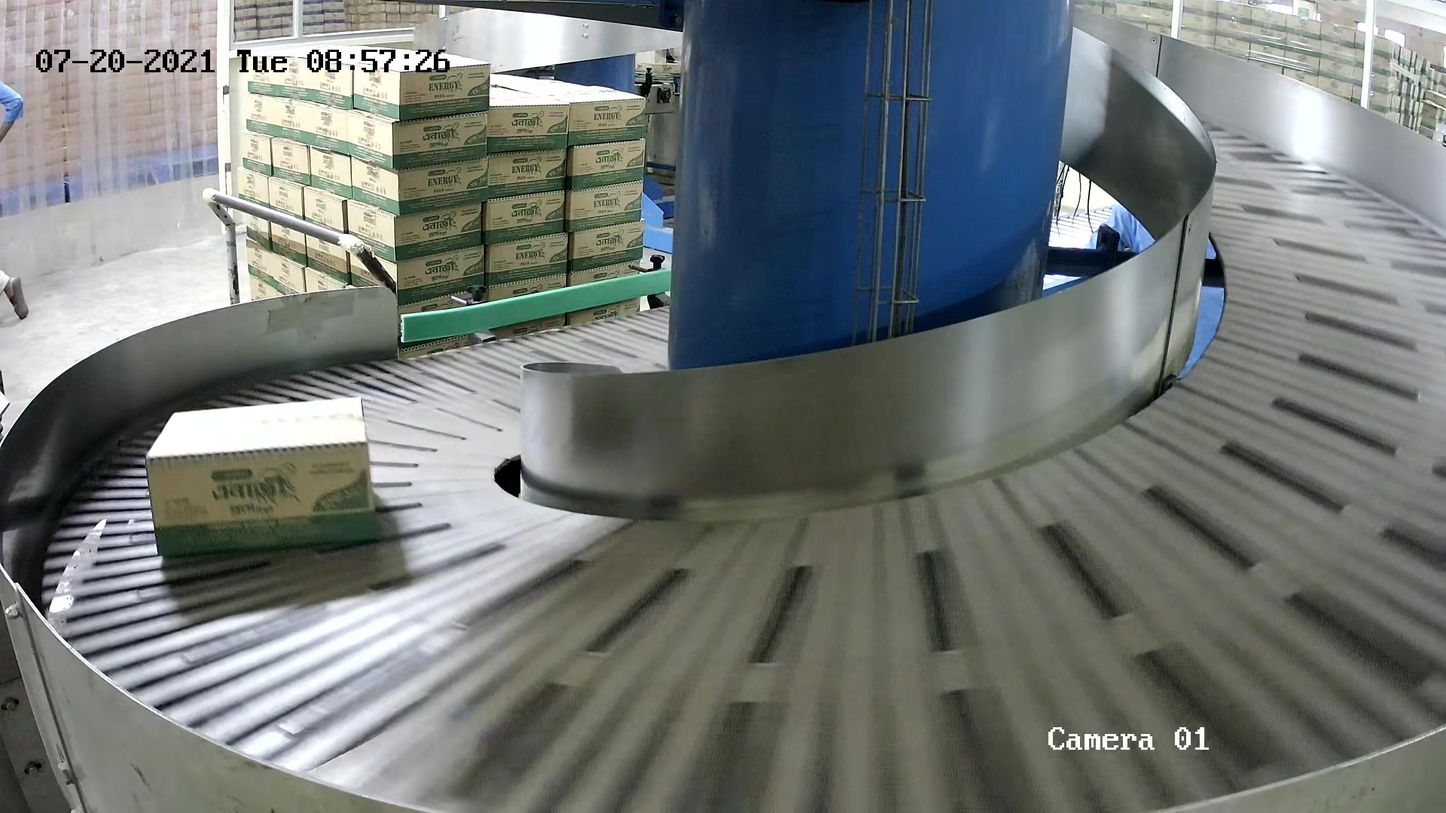Box: (146, 396, 381, 564)
